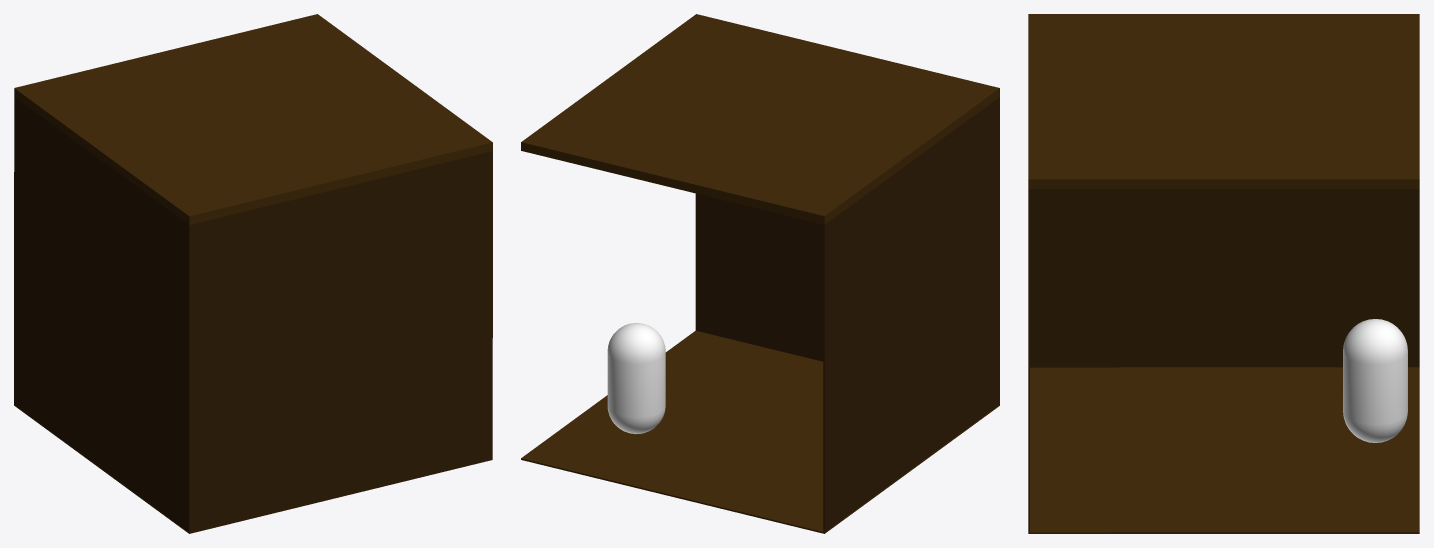
File: Player Size shit.fbx
3 views of the same model, side by side, from view 1: azimuth 30°, elevation 25°; view 2: azimuth 150°, elevation 25°; view 3: azimuth 270°, elevation 25° (orthographic). The views are drawn at different scales.
Parts seen in each view (by area): view 1: Right_Wall, Roof, Front_Wall; view 2: Roof, Front_Wall, Floor, Right_Wall, Capsule; view 3: Roof, Front_Wall, Floor, Capsule, Right_Wall.
Boxes of the visible parts, x1,y1,x2,y2 form: Right_Wall: (188,151,492,533); Roof: (14,14,492,224); Front_Wall: (14,97,190,533); Roof: (521,14,999,224); Front_Wall: (823,97,999,532); Floor: (521,330,999,533); Right_Wall: (695,88,999,404); Capsule: (607,323,665,434); Roof: (1028,14,1419,188); Front_Wall: (1030,189,1419,367); Floor: (1028,367,1419,533); Capsule: (1343,319,1407,442); Right_Wall: (1028,189,1029,532).
Size of the model in its own units: 600 by 600 by 600.
